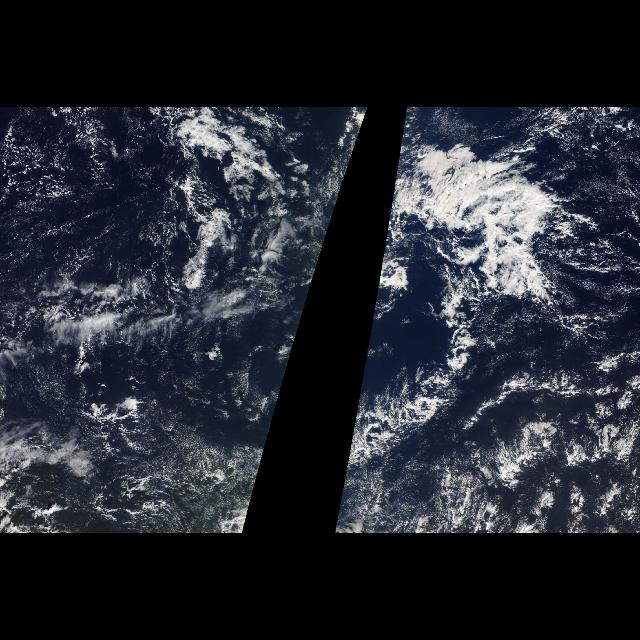Fish: (332, 302, 574, 528)
Sugar: (99, 412, 249, 532)
